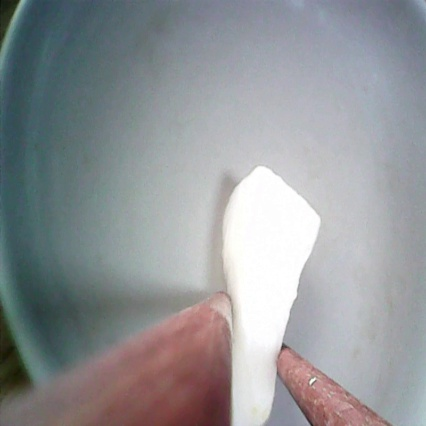white_chinese-yam: (212, 160, 320, 426)
